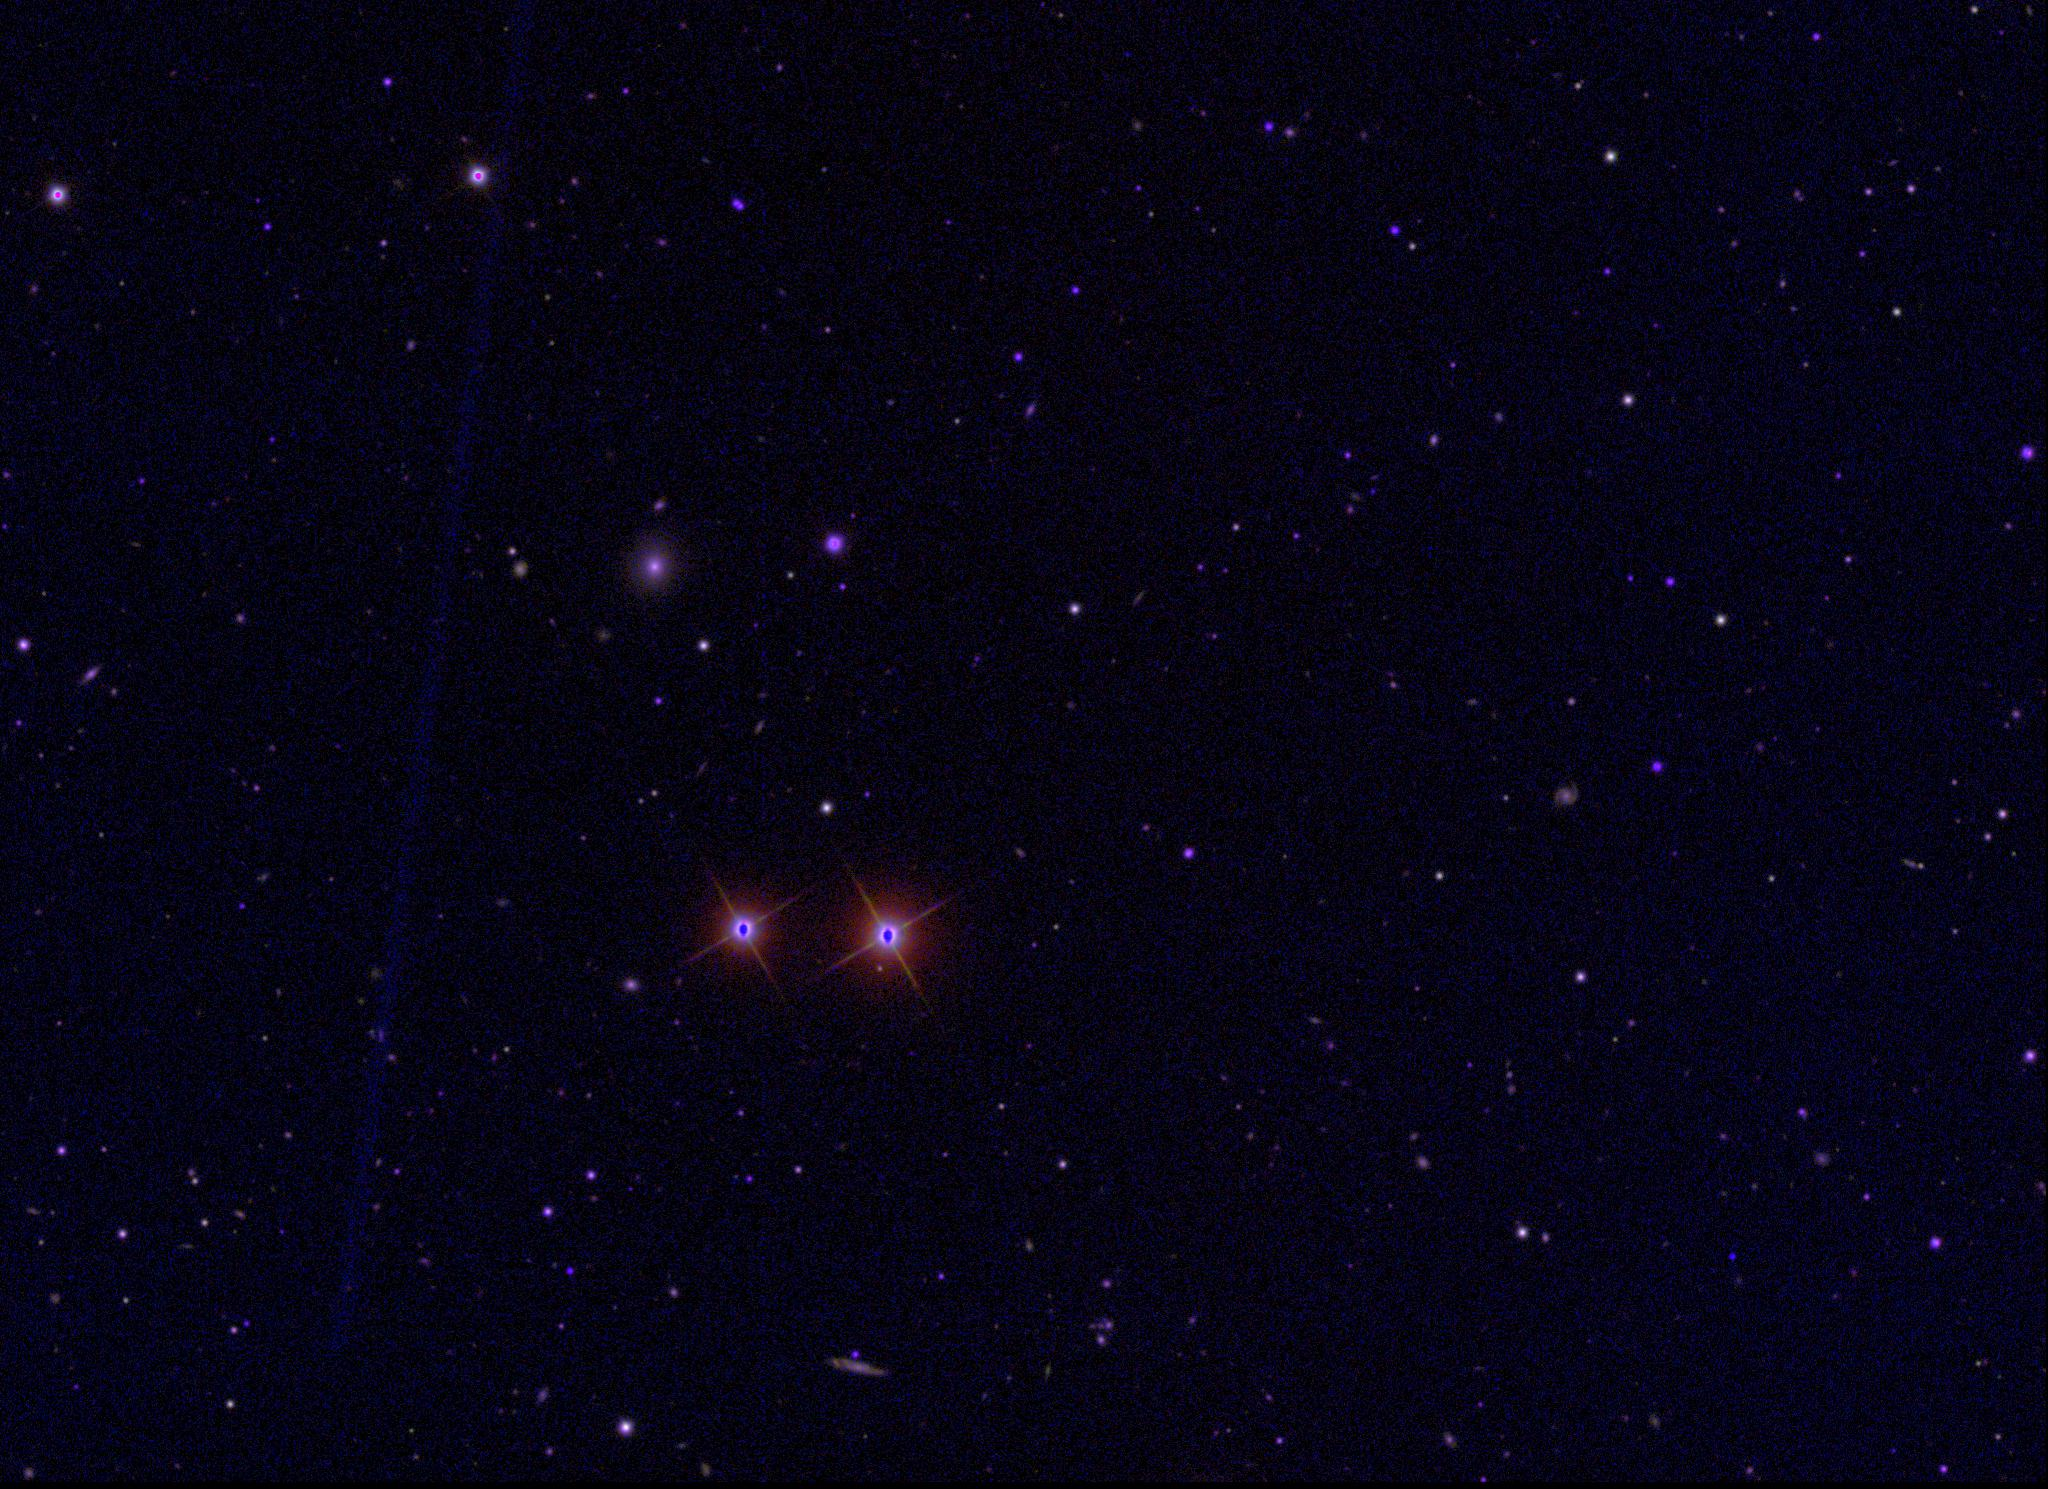L: (1725, 1250, 1740, 1265)
